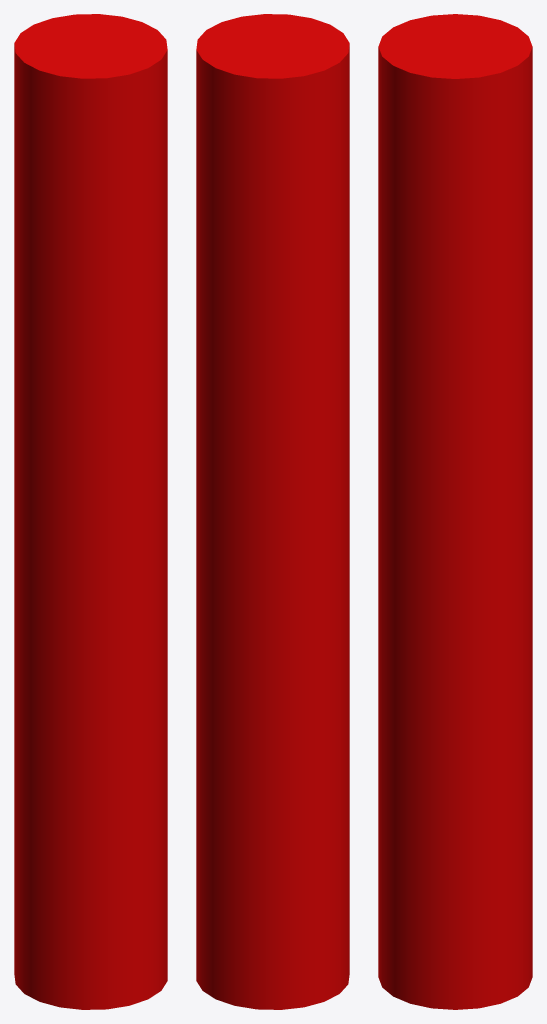
File: Pillar.fbx
3 renders of one model, left to right at view 1: azimuth 30°, elevation 25°; view 2: azimuth 150°, elevation 25°; view 3: azimuth 270°, elevation 25°, orthographic.
Visible parts, largest first — view 1: Pillar_6_Geo; view 2: Pillar_6_Geo; view 3: Pillar_6_Geo.
Boxes of the visible parts, <box> form: Pillar_6_Geo: <box>14,14,167,1009</box>; Pillar_6_Geo: <box>196,14,349,1009</box>; Pillar_6_Geo: <box>378,14,532,1009</box>.
Bounding box in the file's own units: 0.003 × 0.02 × 0.003.
